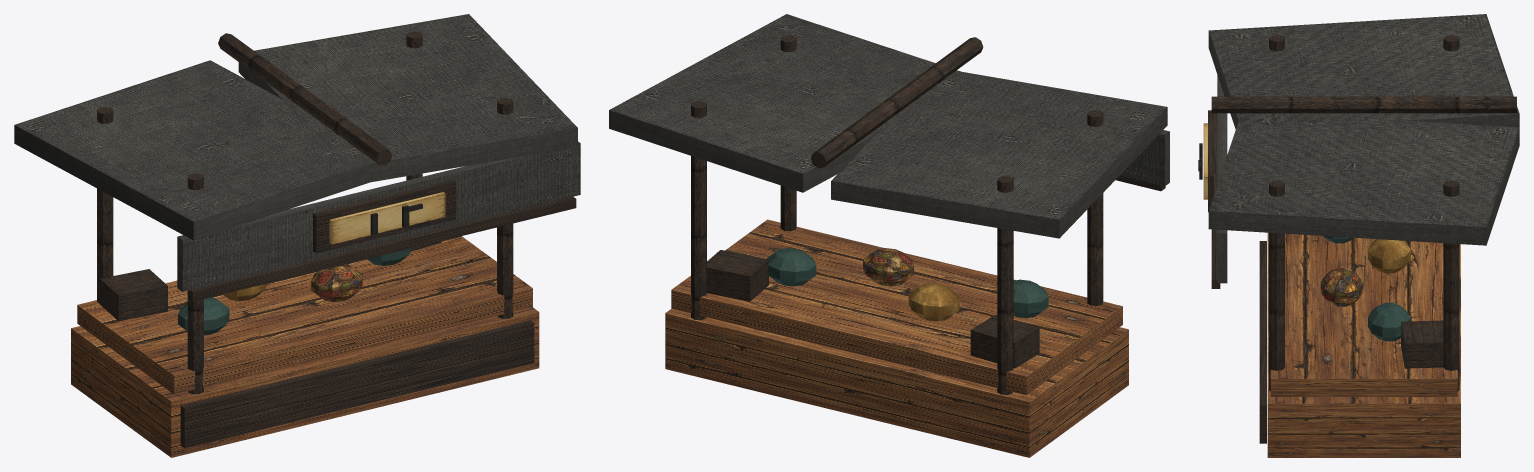
Rendered from market-stall.glb.
The picture shows the model from 3 angles, left to right: view 1: azimuth 30°, elevation 25°; view 2: azimuth 150°, elevation 25°; view 3: azimuth 270°, elevation 25°; orthographic projection. The views are drawn at different scales.
Parts seen in each view (by area): view 1: market_stall_landmark; view 2: market_stall_landmark; view 3: market_stall_landmark.
Part boxes in pixels (left/top/right/bottom): market_stall_landmark: left=14, top=14, right=580, bottom=457; market_stall_landmark: left=609, top=14, right=1169, bottom=457; market_stall_landmark: left=1198, top=14, right=1519, bottom=457.
Size of the model in its own units: 4.05 by 2.43 by 2.58.
Materials: 10 (10 with a texture image).
